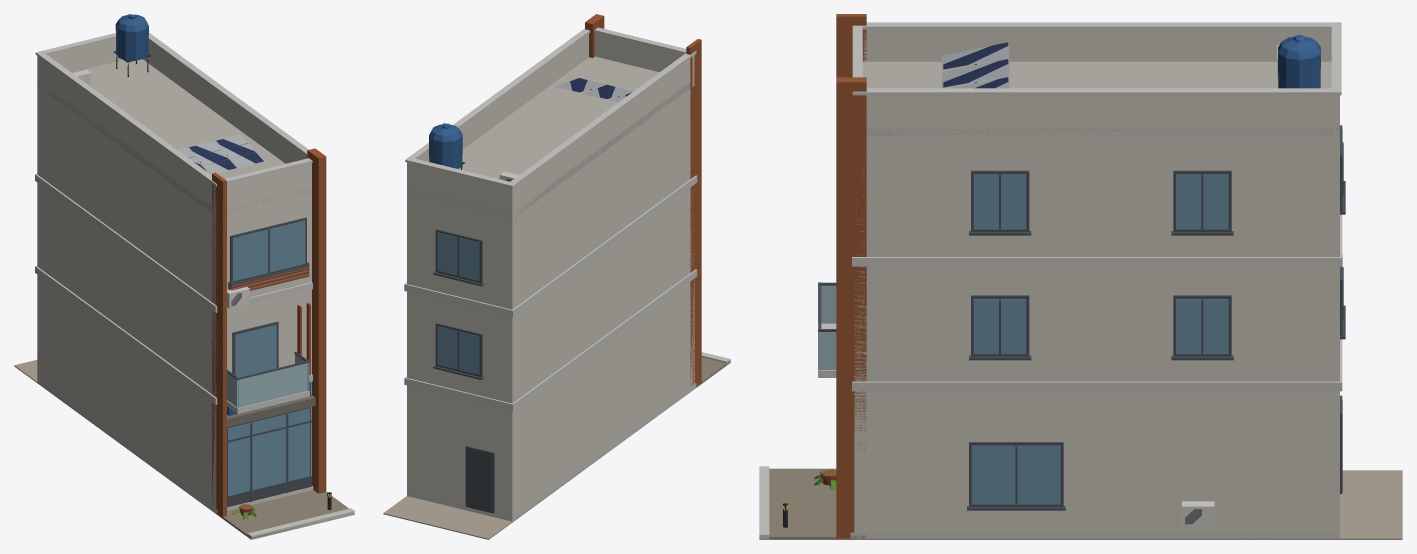
The model's file is bay1_right.glb.
3 renders of one model, left to right at view 1: azimuth 30°, elevation 25°; view 2: azimuth 150°, elevation 25°; view 3: azimuth 270°, elevation 25°, orthographic. The views are drawn at different scales.
Parts seen in each view (by area): view 1: body; view 2: body; view 3: body.
Part boxes in pixels (<box>): body: <box>14,14,354,539</box>; body: <box>383,14,730,539</box>; body: <box>759,14,1402,539</box>.
Size of the model in its own units: 4.42 by 13.34 by 15.9.
